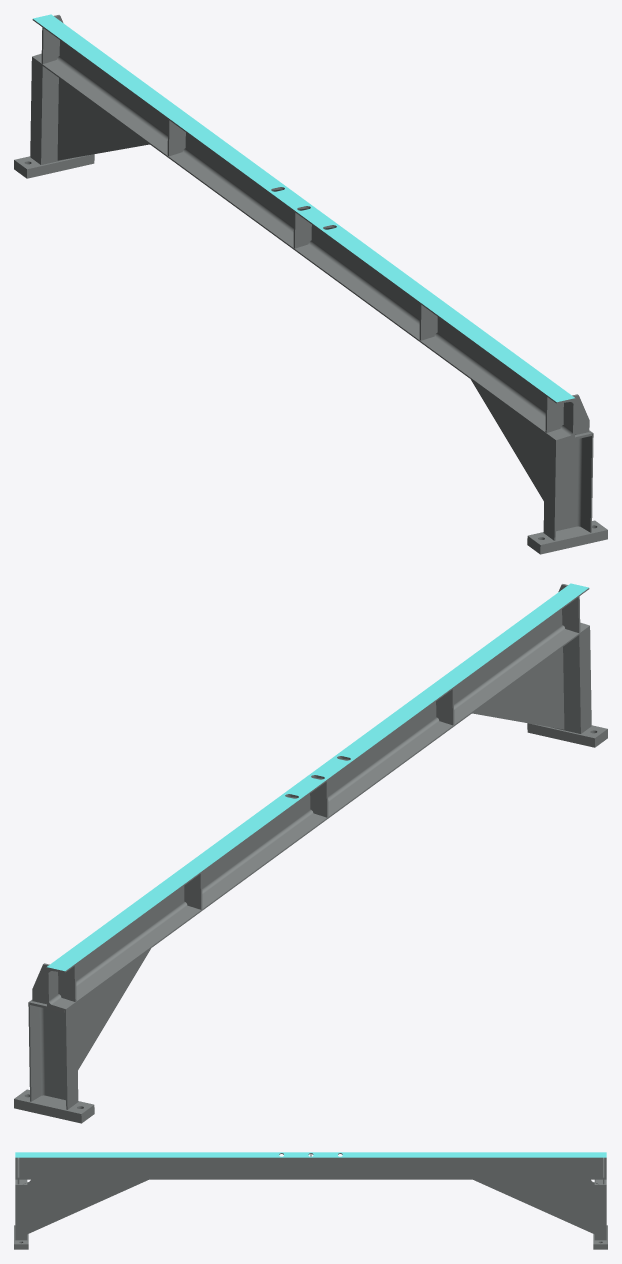
The model's file is assembly-13.glb.
3 views of the same model, one above another, from view 1: azimuth 30°, elevation 25°; view 2: azimuth 150°, elevation 25°; view 3: azimuth 270°, elevation 25° (orthographic). The views are drawn at different scales.
Visible parts, largest first — view 1: 螺運雞支撐架.-4; view 2: 螺運雞支撐架.-4; view 3: 螺運雞支撐架.-4.
Part boxes in pixels (x1,y1,x2,y2): 螺運雞支撐架.-4: [14, 14, 607, 554]; 螺運雞支撐架.-4: [14, 583, 607, 1123]; 螺運雞支撐架.-4: [14, 1152, 607, 1249].
Size of the model in its own units: 0.1804 by 0.3784 by 2.43.
